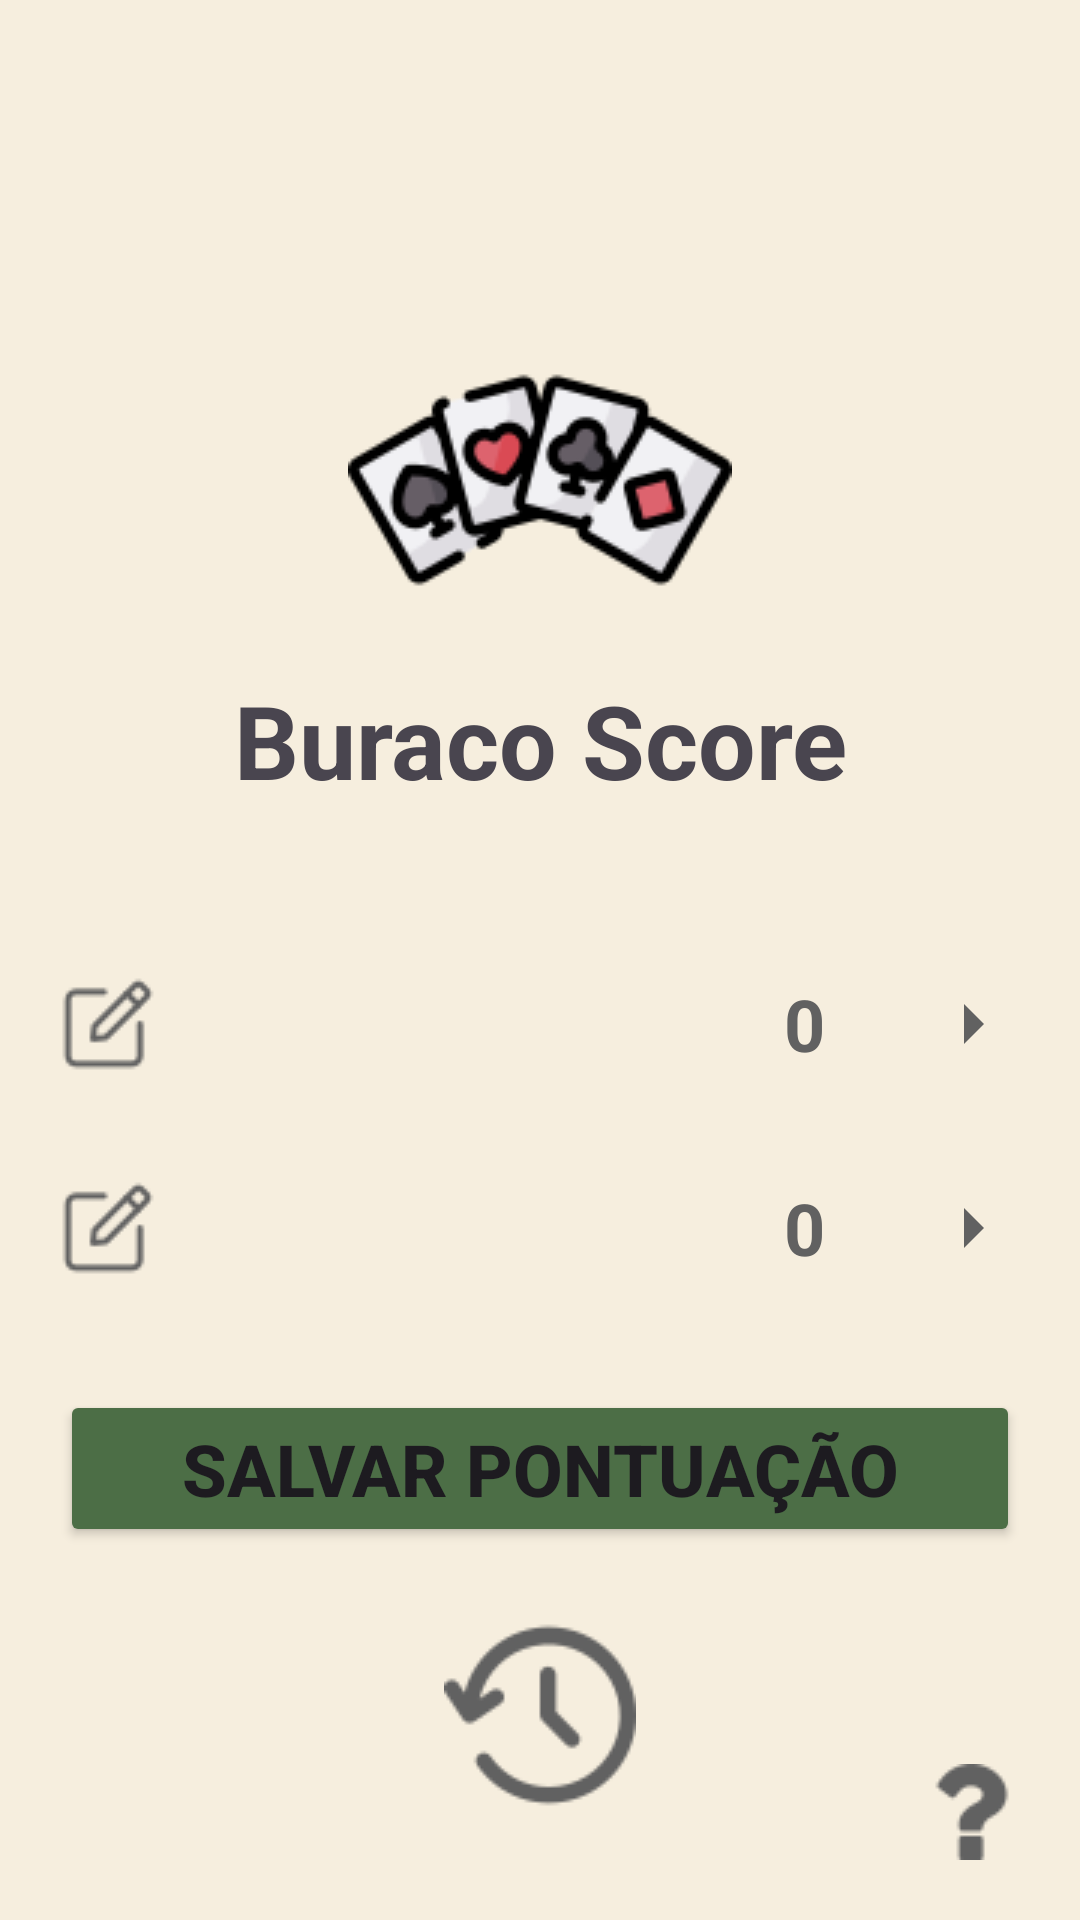

Locate icon controls on the screen. Image size 1080x1920, boxes as (x1,y1,x2,y2).
Editar nome do jogador: (63,979,153,1069), (63,1183,153,1273)
Regras do buraco (canastra): (936,1764,1009,1860)
Visualizar histórico de partidas salvas: (444,1625,636,1805)
